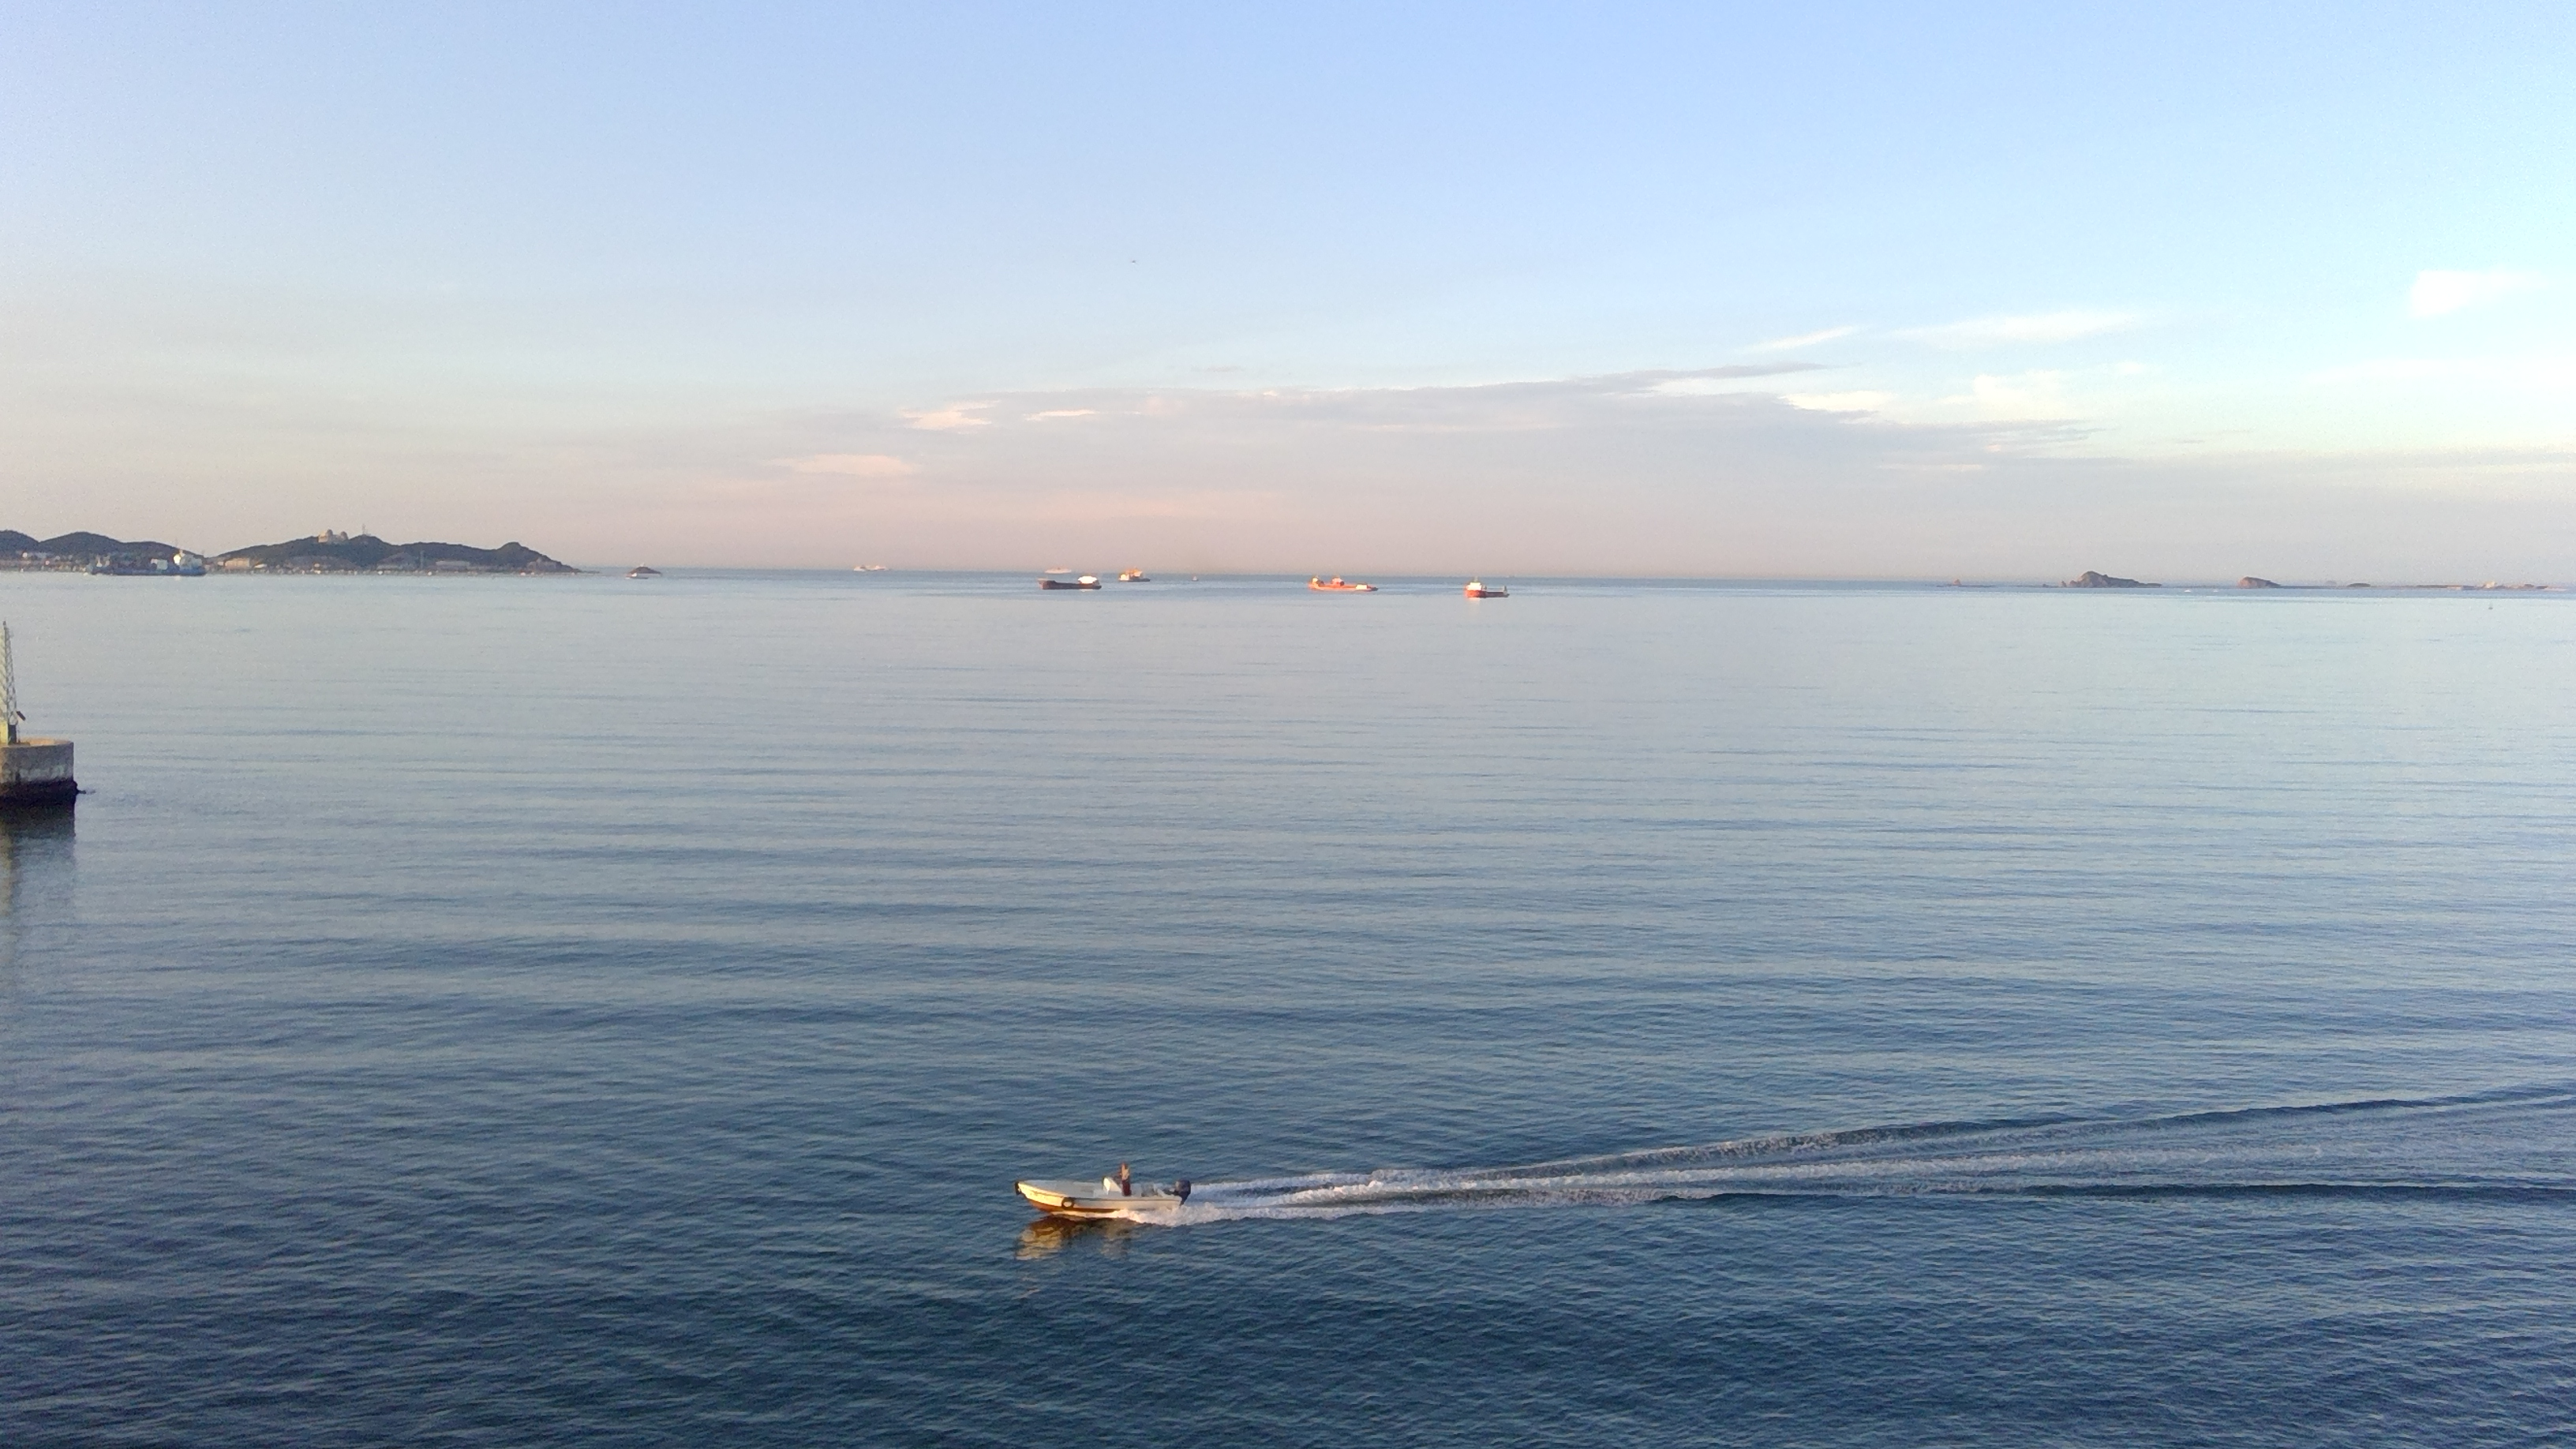boat: (1005, 1145, 1210, 1235)
rock: (232, 518, 570, 586), (2, 517, 205, 584)
ship: (2059, 561, 2157, 605), (1309, 566, 1376, 603), (2229, 556, 2282, 600), (1031, 566, 1099, 598), (1447, 580, 1506, 603)
